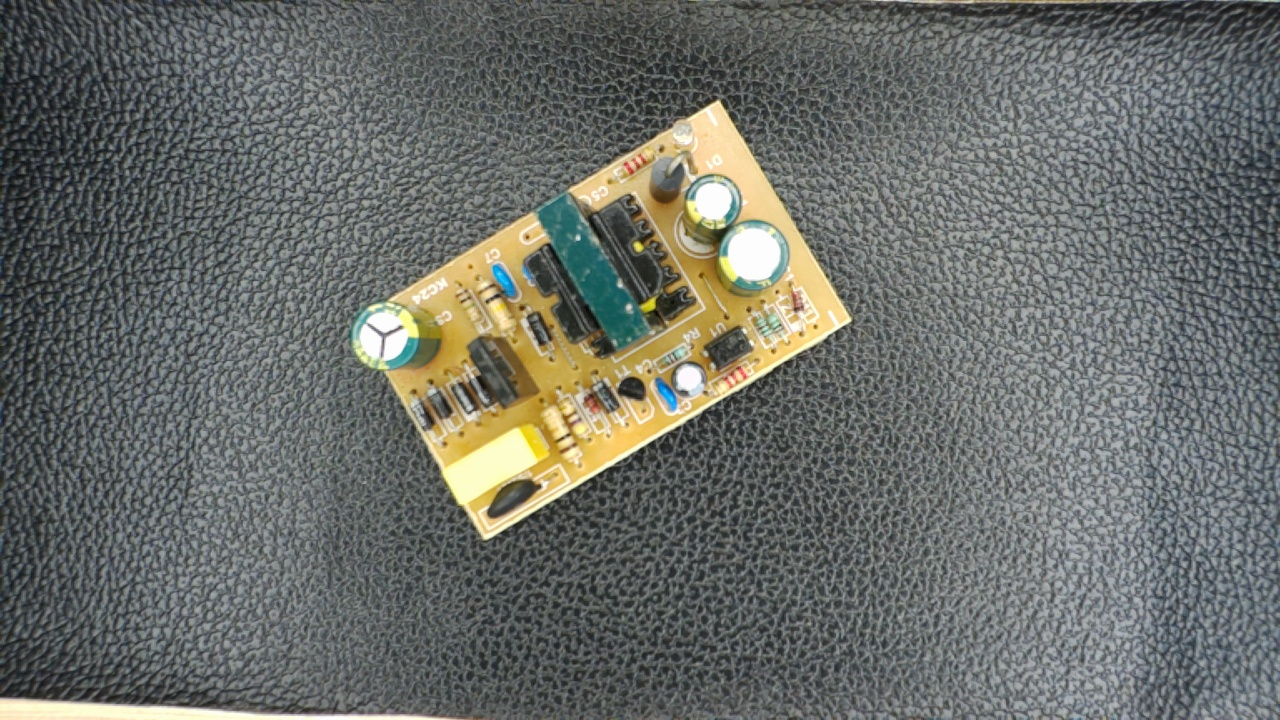fuse: (479, 470, 552, 524)
hv_capacitor: (348, 302, 443, 374)
optocoupler: (699, 321, 758, 371)
